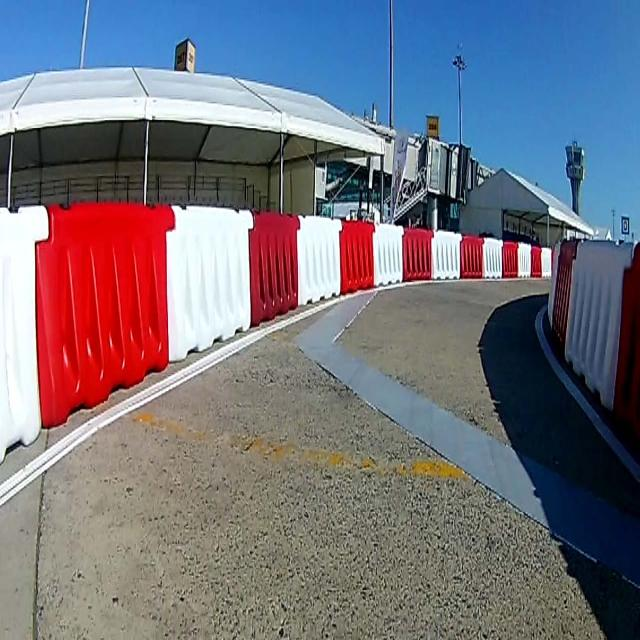durak: (622, 218, 628, 232)
